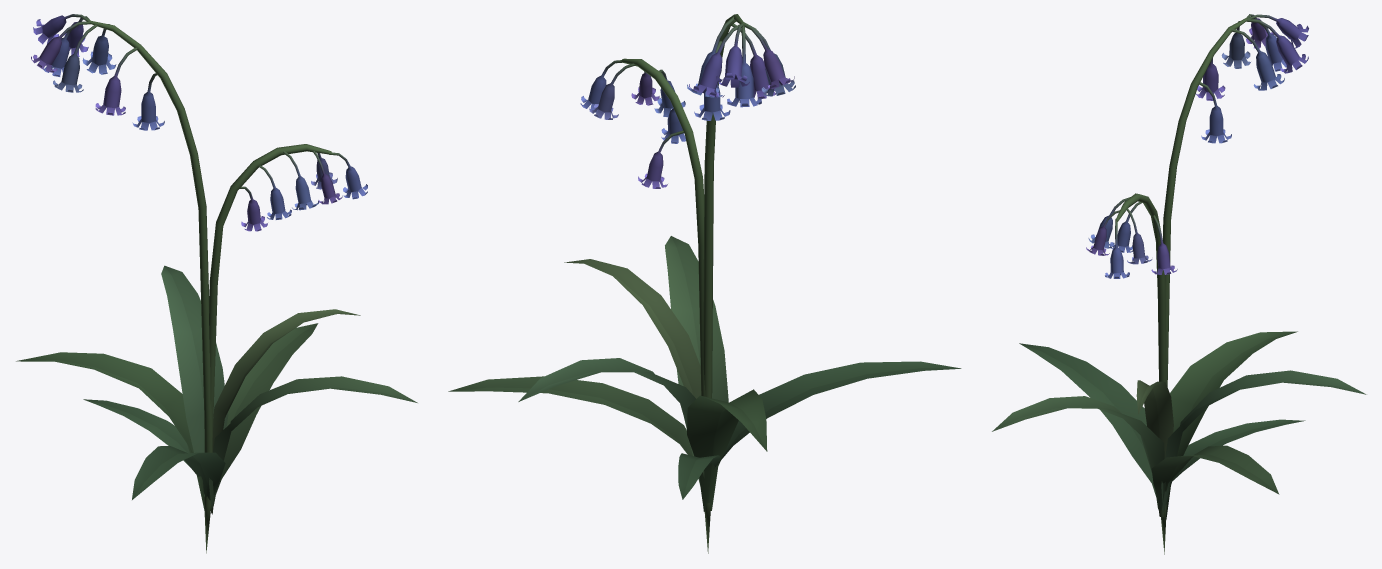
File: plants-flowers-bluebell_v1.glb
The picture shows the model from 3 angles, left to right: view 1: azimuth 30°, elevation 25°; view 2: azimuth 150°, elevation 25°; view 3: azimuth 270°, elevation 25°; orthographic projection. The views are drawn at different scales.
Visible parts, largest first — view 1: Bluebell_v1; view 2: Bluebell_v1; view 3: Bluebell_v1.
Boxes of the visible parts, left/top/right/bottom form: Bluebell_v1: left=16, top=14, right=417, bottom=553; Bluebell_v1: left=448, top=14, right=961, bottom=553; Bluebell_v1: left=992, top=14, right=1366, bottom=554.
Bounding box in the file's own units: 0.2254 × 0.35 × 0.2365.
